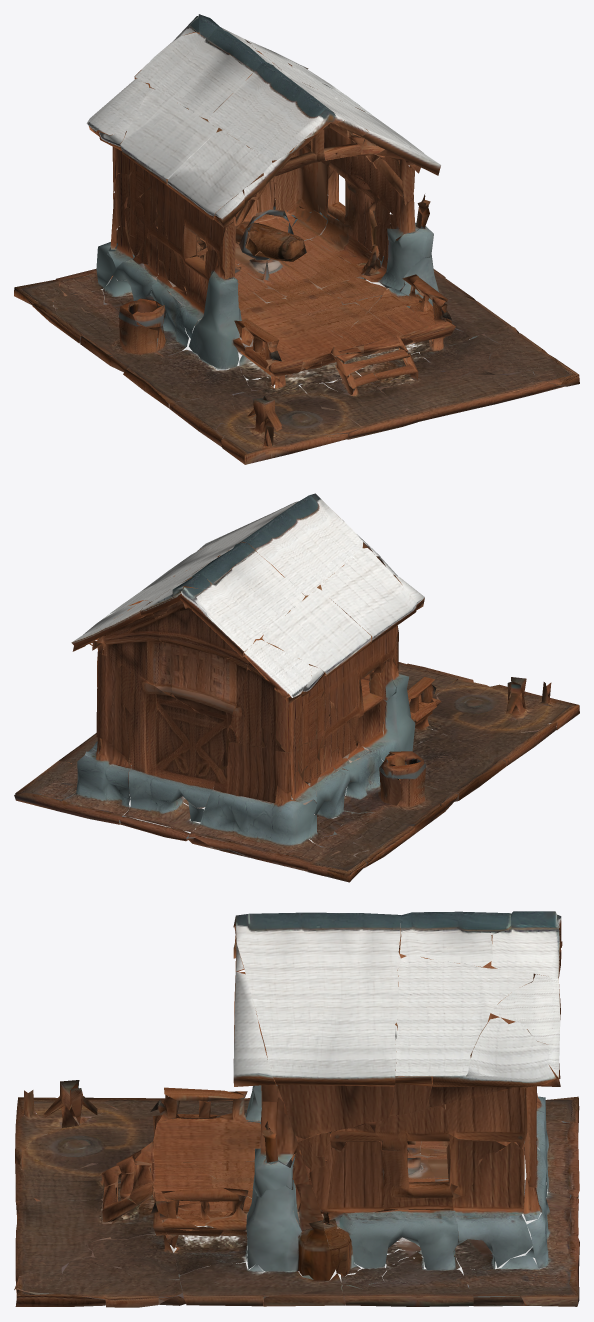
The model's file is mesh_engineer_yard_a.glb.
3 views of the same model, one above another, from view 1: azimuth 30°, elevation 25°; view 2: azimuth 150°, elevation 25°; view 3: azimuth 270°, elevation 25° (orthographic). The views are drawn at different scales.
Visible parts, largest first — view 1: mesh_engineer_yard_a__mesh_engineer_yard_a__Mesh_0; view 2: mesh_engineer_yard_a__mesh_engineer_yard_a__Mesh_0; view 3: mesh_engineer_yard_a__mesh_engineer_yard_a__Mesh_0.
Boxes of the visible parts, x1,y1,x2,y2 form: mesh_engineer_yard_a__mesh_engineer_yard_a__Mesh_0: (14, 14, 579, 464); mesh_engineer_yard_a__mesh_engineer_yard_a__Mesh_0: (14, 493, 579, 882); mesh_engineer_yard_a__mesh_engineer_yard_a__Mesh_0: (14, 911, 579, 1307).
Bounding box in the file's own units: 16.76 × 11.79 × 20.
1 material, 1 textured.
